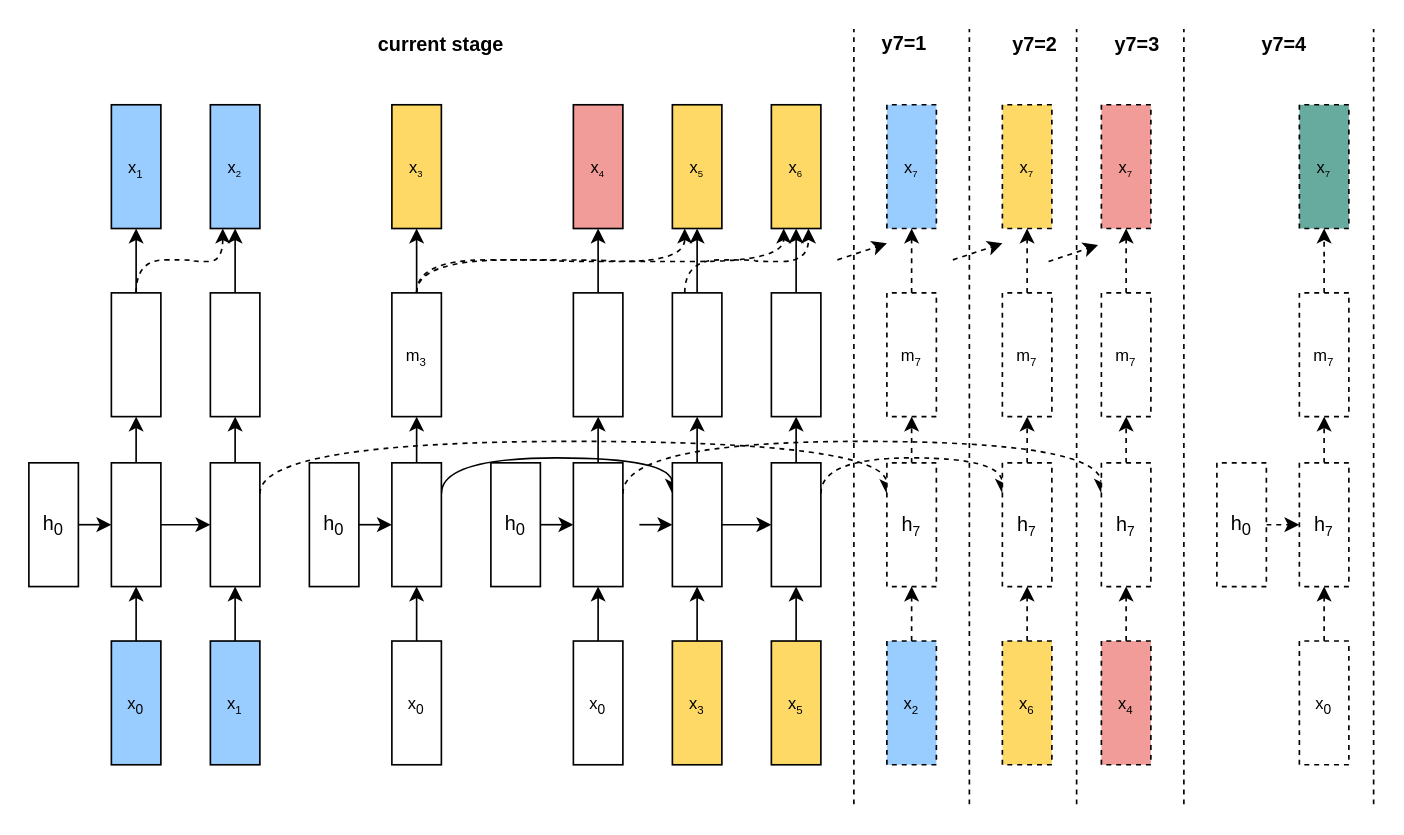
Some shapes in this 1404 by 835 pixel diagram are drawn without their labels. The shapes that lost their labels are listed below. From the top down, each one's centre as x and y in pixels, then its label:
At point (135, 354): "m 1".
At point (234, 354): "m 2".
At point (597, 354): "m 4".
At point (696, 354): "m 5".
At point (795, 354): "m 6".
At point (135, 524): "h 1".
At point (234, 524): "h 2".
At point (415, 524): "h 3".
At point (597, 524): "h 4".
At point (696, 524): "h 5".
At point (795, 524): "h 6".
